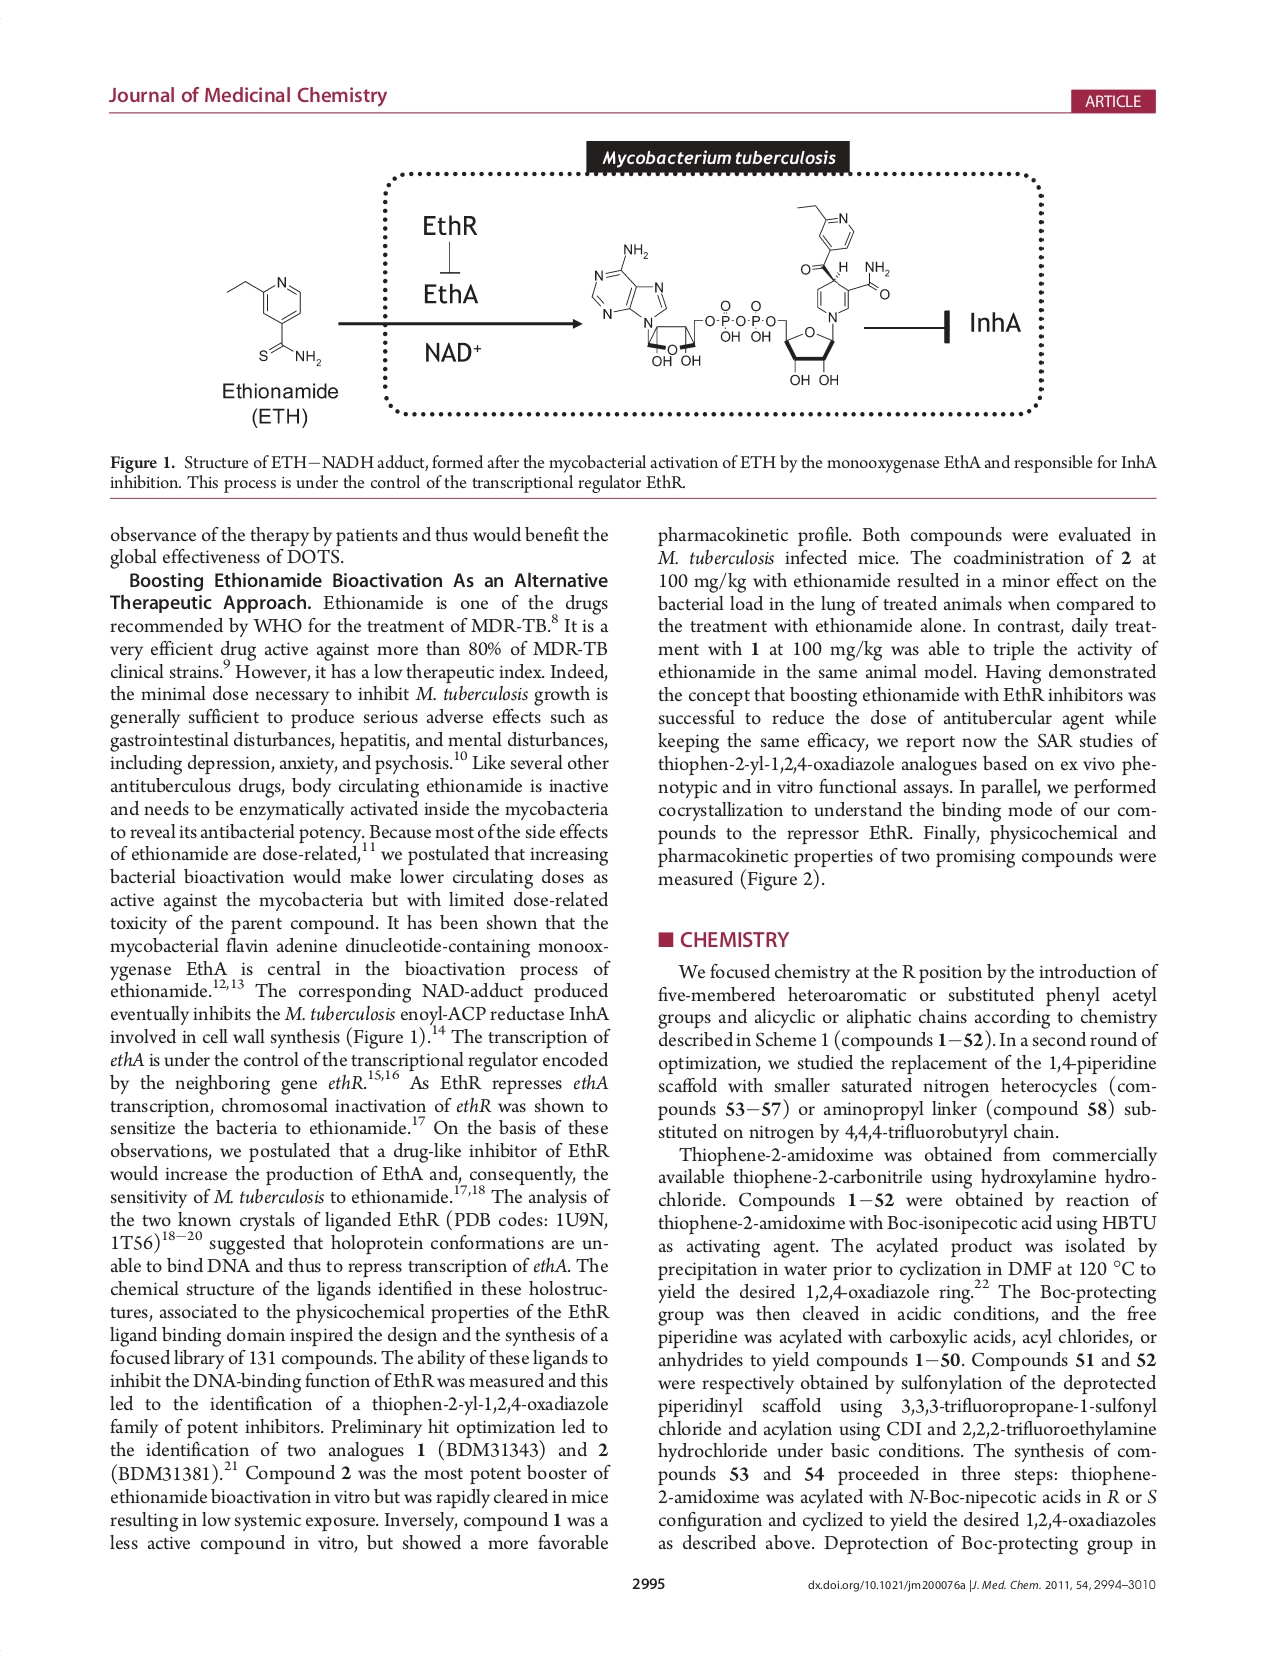exist_molecular: (588, 201, 894, 390), (219, 270, 322, 372)
